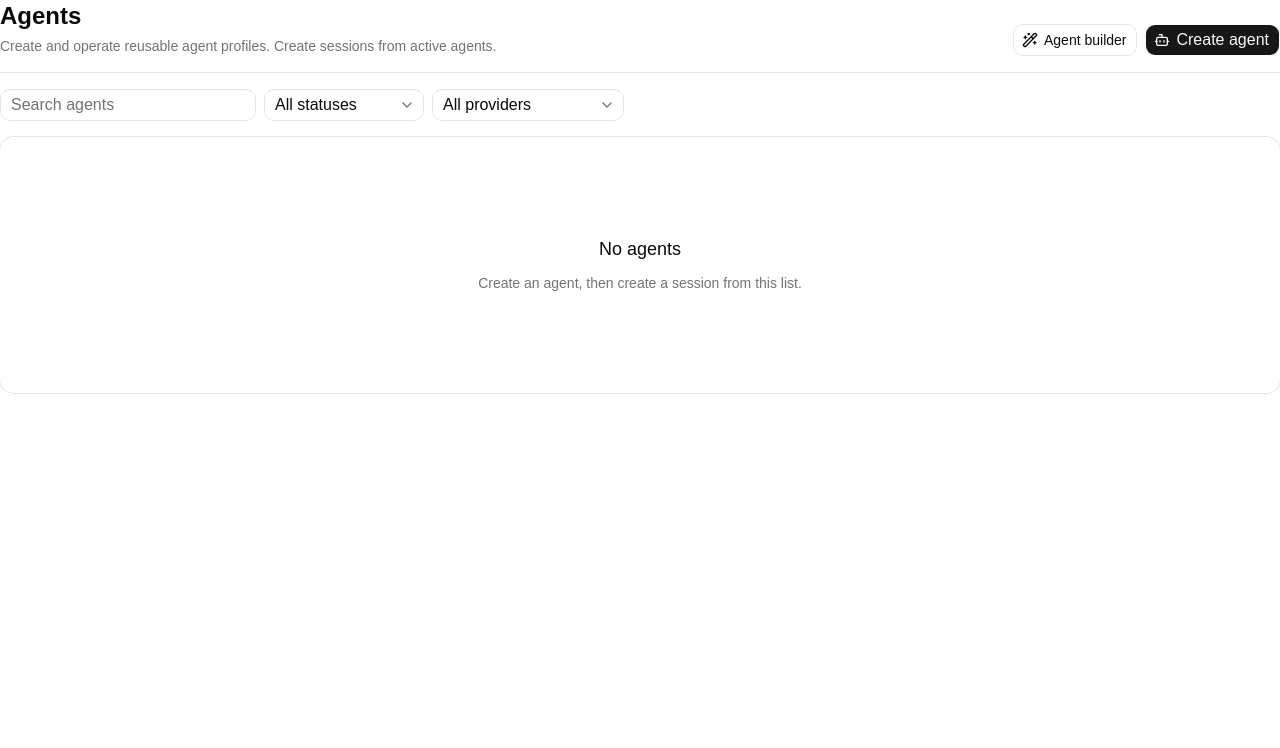
Scenario: [spec: agents/console-list] AgentsPage › opens create agent sheet when Create agent button is clicked
Click the button "Create agent" at [1213, 40], box [1146,24,1279,56]
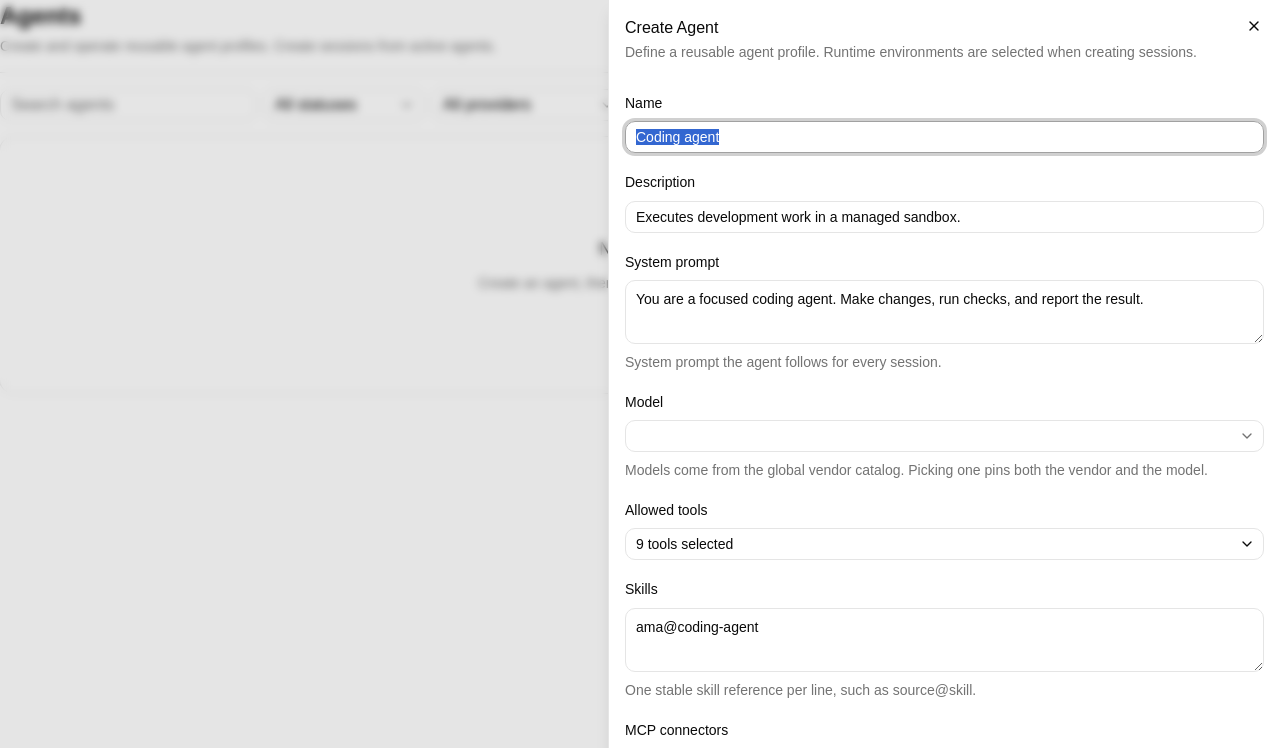
Check: the heading "Create Agent" is shown, box [625,19,718,36]
